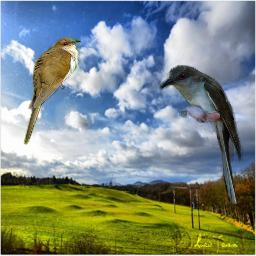Cuckoo: (159, 65, 244, 204), (23, 37, 81, 145)
